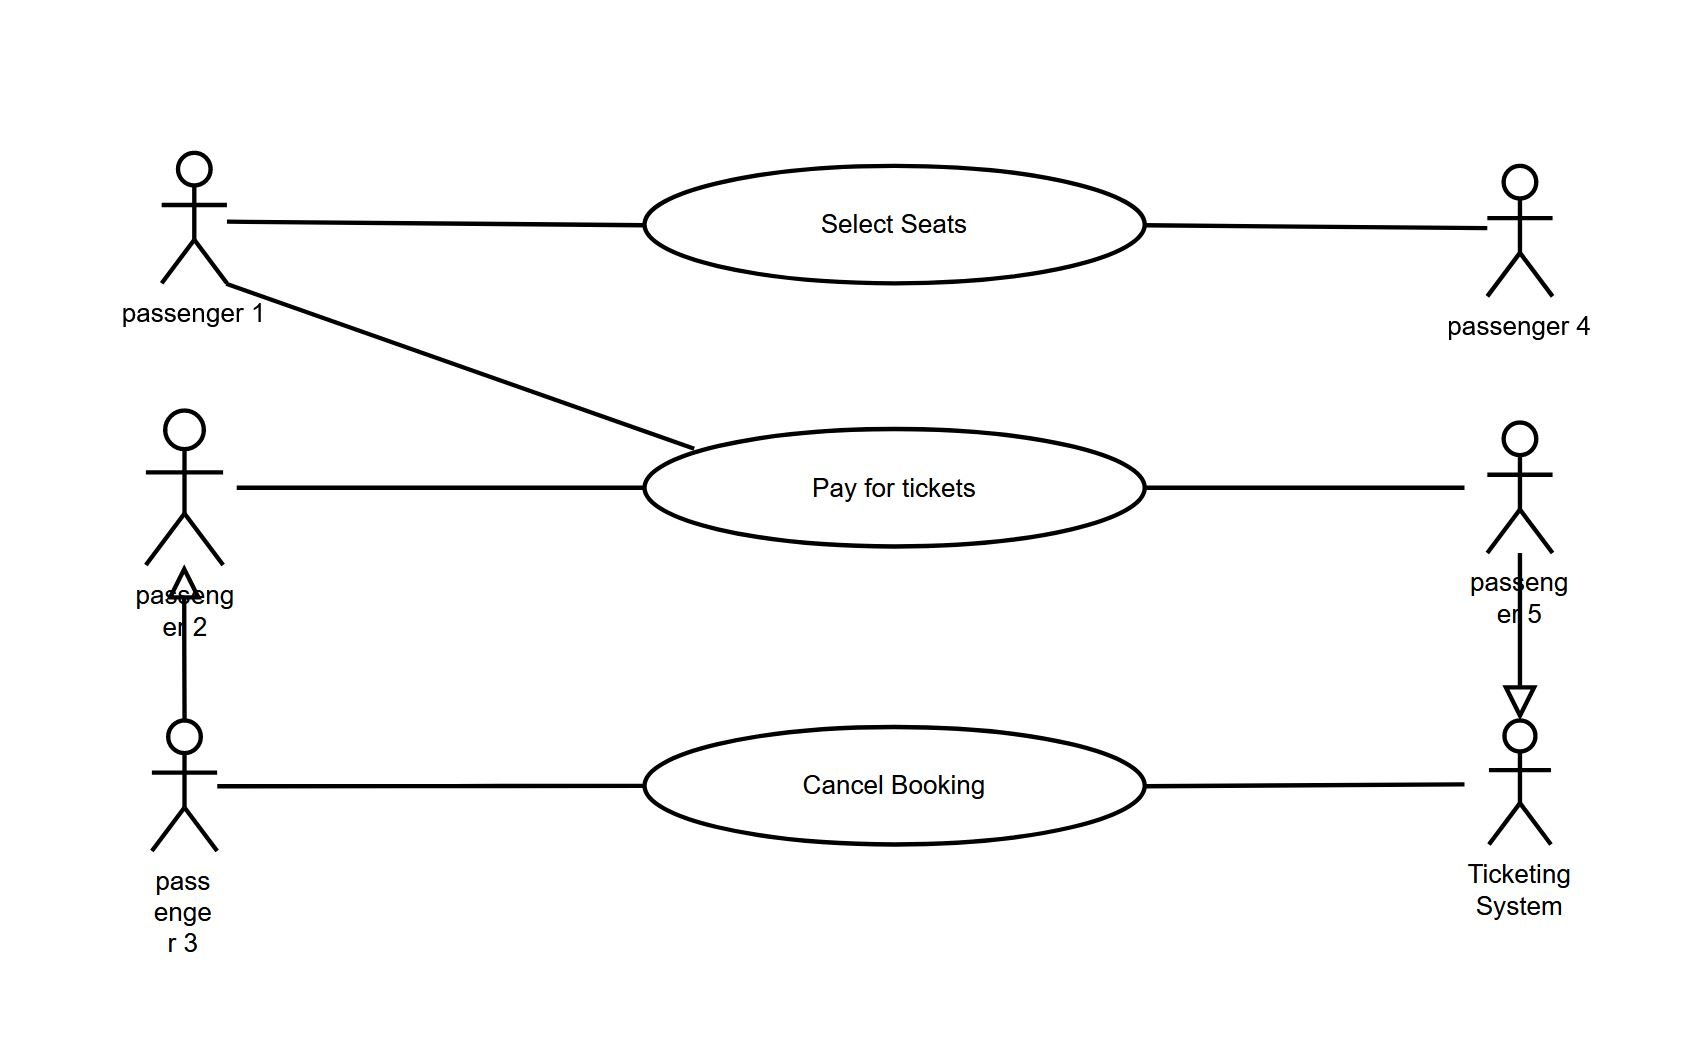actor: (139, 408, 232, 571), (1479, 411, 1556, 556), (142, 721, 223, 858), (1486, 159, 1561, 305), (159, 141, 225, 290), (1486, 716, 1556, 851)
association: (225, 282, 698, 452), (230, 195, 641, 255), (1148, 750, 1463, 807), (232, 463, 639, 505), (218, 770, 640, 806), (1145, 204, 1486, 247), (1149, 472, 1472, 499), (164, 567, 208, 718)
generalization: (1503, 555, 1538, 718)
text: (800, 762, 990, 808), (800, 472, 998, 514), (135, 872, 232, 958), (1463, 855, 1575, 924), (813, 204, 975, 245), (1461, 570, 1570, 628), (1445, 307, 1604, 342), (128, 587, 240, 635), (118, 301, 270, 331)
use_case: (640, 161, 1148, 288), (638, 722, 1145, 850), (640, 425, 1147, 552)
